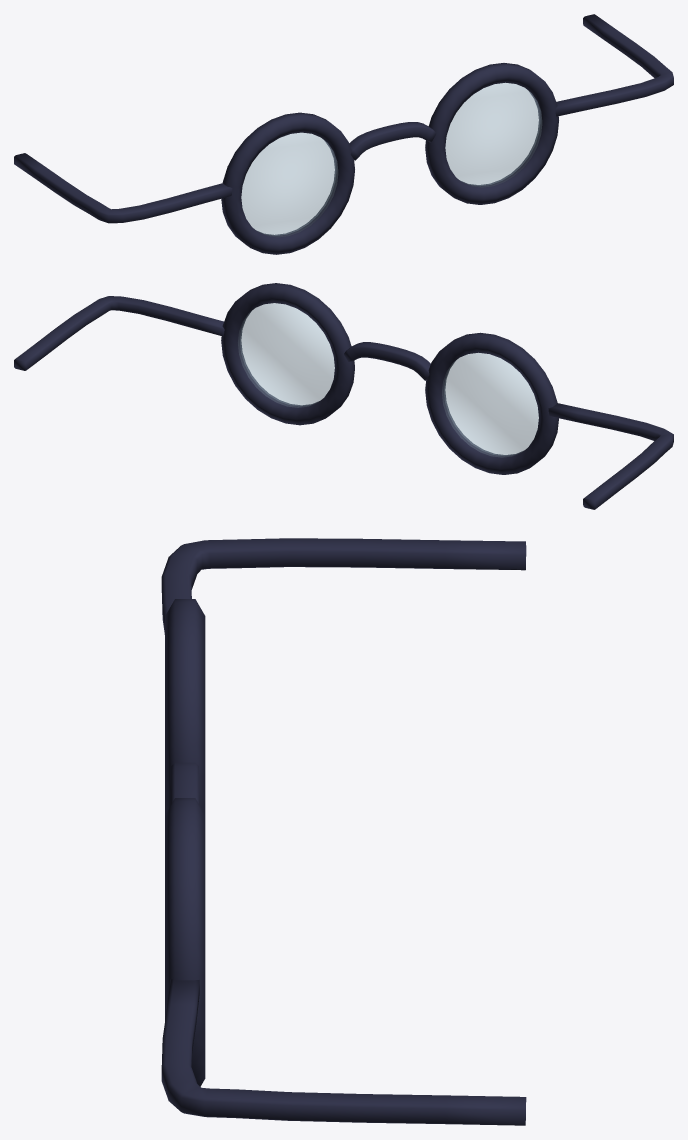
Rendered from round_glasses-monkey.glb.
3 renders of one model, top to bottom at view 1: azimuth 30°, elevation 25°; view 2: azimuth 150°, elevation 25°; view 3: azimuth 270°, elevation 25°, orthographic. The views are drawn at different scales.
Parts seen in each view (by area): view 1: lens.001, lens, rim, rim.001, temple.001, temple, bridge; view 2: lens, lens.001, rim.001, rim, temple, temple.001, bridge; view 3: temple, temple.001, rim, rim.001, bridge.
Part boxes in pixels (left/top/right/bottom): lens.001: left=241, top=132, right=337, bottom=236; lens: left=445, top=83, right=541, bottom=187; rim: left=425, top=63, right=558, bottom=204; rim.001: left=221, top=112, right=354, bottom=254; temple.001: left=14, top=153, right=232, bottom=223; temple: left=555, top=14, right=673, bottom=116; bridge: left=349, top=122, right=436, bottom=160; lens: left=238, top=303, right=334, bottom=407; lens.001: left=442, top=353, right=538, bottom=457; rim.001: left=425, top=332, right=558, bottom=474; rim: left=221, top=283, right=354, bottom=425; temple: left=14, top=296, right=224, bottom=370; temple.001: left=548, top=403, right=673, bottom=509; bridge: left=344, top=342, right=430, bottom=380; temple: left=161, top=979, right=526, bottom=1125; temple.001: left=161, top=538, right=526, bottom=634; rim: left=165, top=798, right=205, bottom=1086; rim.001: left=165, top=599, right=205, bottom=814; bridge: left=171, top=762, right=198, bottom=803.
Bounding box in the file's own units: 1.33 × 0.2946 × 0.3605.
